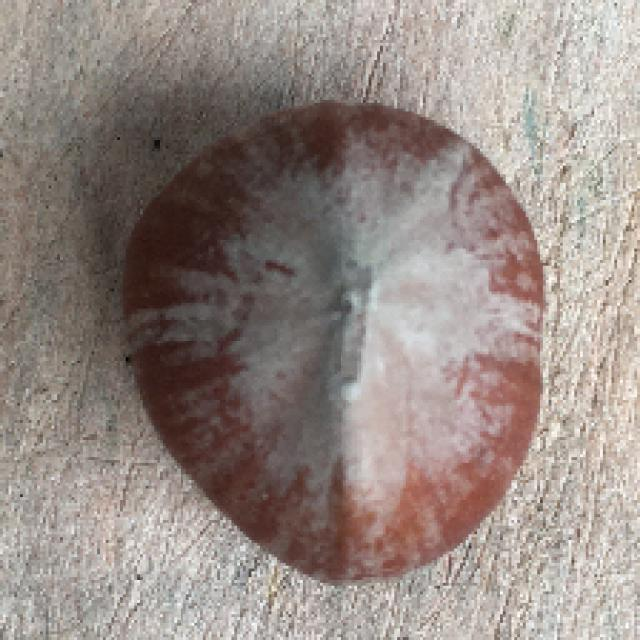qualityHazelnut: (117, 102, 548, 587)
